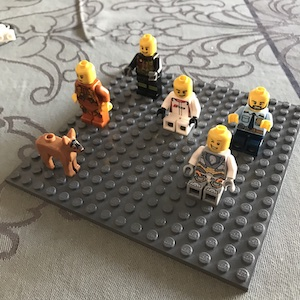Lego: (181, 126, 237, 203), (224, 86, 277, 154), (69, 59, 111, 127), (157, 75, 201, 136), (128, 33, 163, 97)
